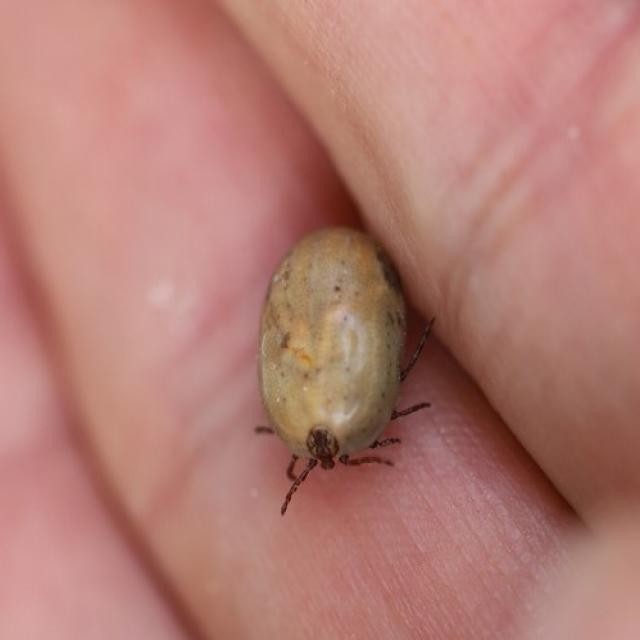Dermacentor Reticulatus-F-Fed: (254, 225, 436, 513)
